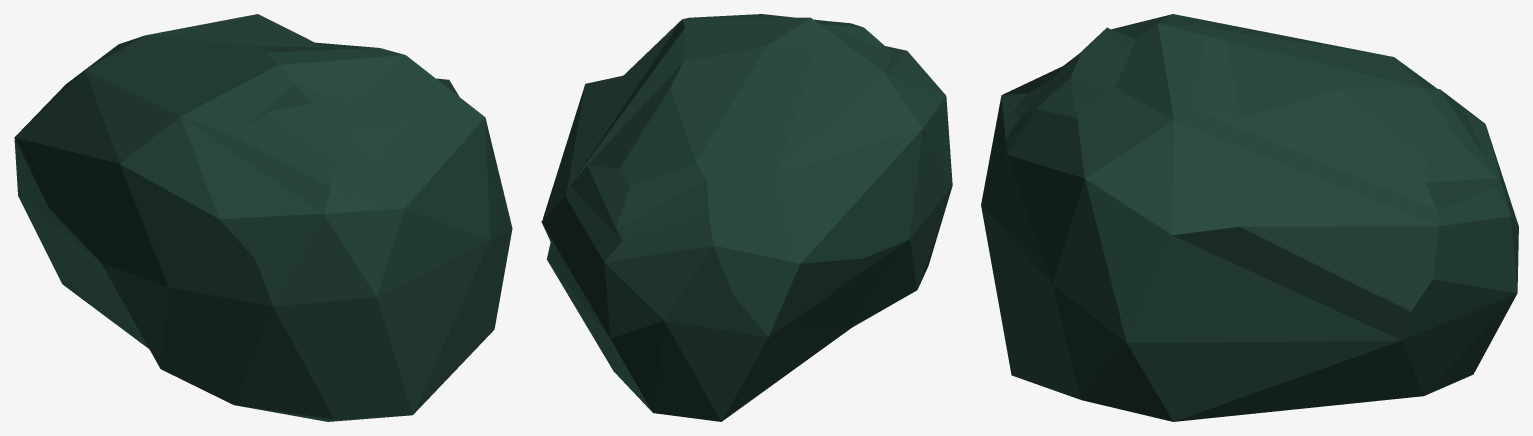
Rendered from bush 2 color 2.fbx.
3 renders of one model, left to right at view 1: azimuth 30°, elevation 25°; view 2: azimuth 150°, elevation 25°; view 3: azimuth 270°, elevation 25°, orthographic. The views are drawn at different scales.
Visible parts, largest first — view 1: Icosphere; view 2: Icosphere; view 3: Icosphere.
Boxes of the visible parts, left/top/right/bottom form: Icosphere: left=14, top=14, right=512, bottom=421; Icosphere: left=541, top=14, right=952, bottom=421; Icosphere: left=981, top=14, right=1518, bottom=421.
Bounding box in the file's own units: 245 × 217 × 308.
